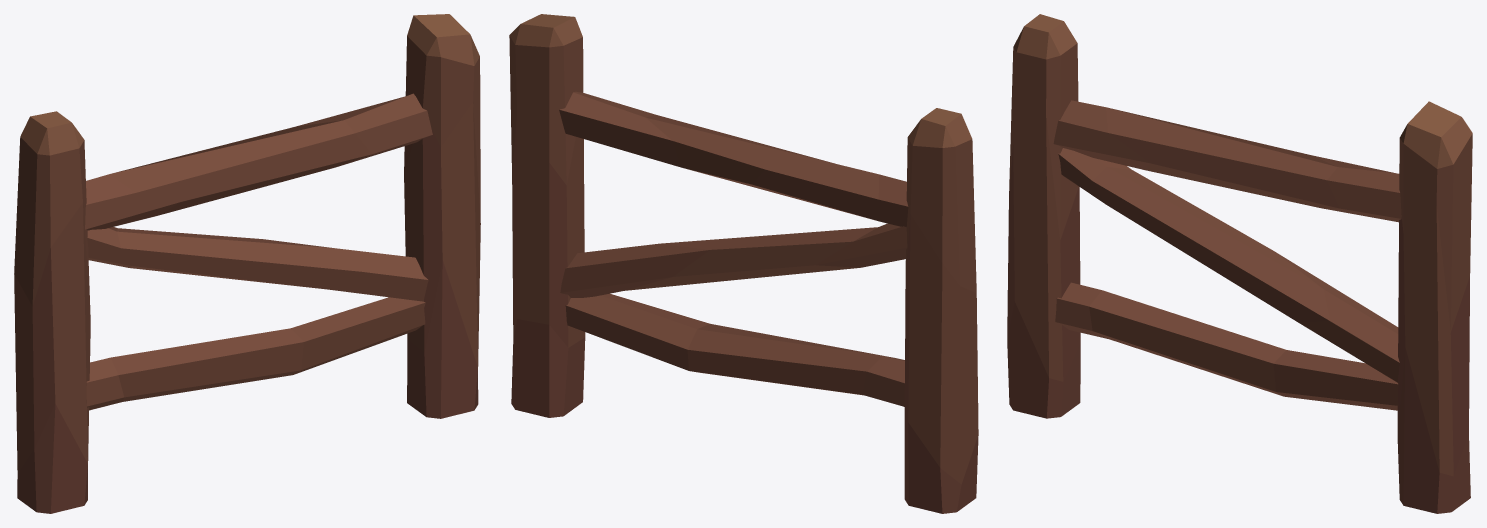
File: gate_log_right.fbx
The picture shows the model from 3 angles, left to right: view 1: azimuth 30°, elevation 25°; view 2: azimuth 150°, elevation 25°; view 3: azimuth 330°, elevation 25°; orthographic projection.
Parts seen in each view (by area): view 1: gate_log_right; view 2: gate_log_right; view 3: gate_log_right.
Boxes of the visible parts, left/top/right/bottom form: gate_log_right: left=14, top=14, right=480, bottom=513; gate_log_right: left=509, top=14, right=978, bottom=513; gate_log_right: left=1007, top=14, right=1472, bottom=513.
Bounding box in the file's own units: 77.31 × 63.61 × 9.74.
